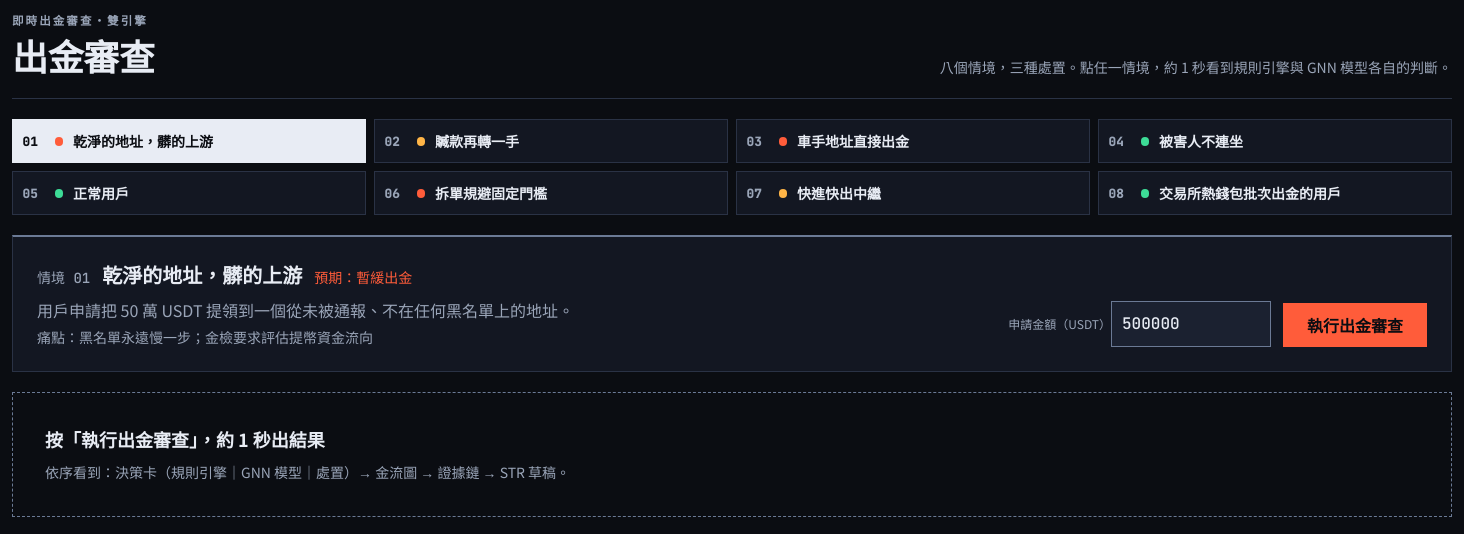
Scenario: Screening 離線快照保險網（I5） › 4xx（例如 API base 設錯導致的 404）不觸發快照，只顯示錯誤訊息
What coordinates should you click on to do the following:
click the button "執行出金審查"
I would click on:
 (1355, 325)
Its box is [1283, 303, 1427, 347].
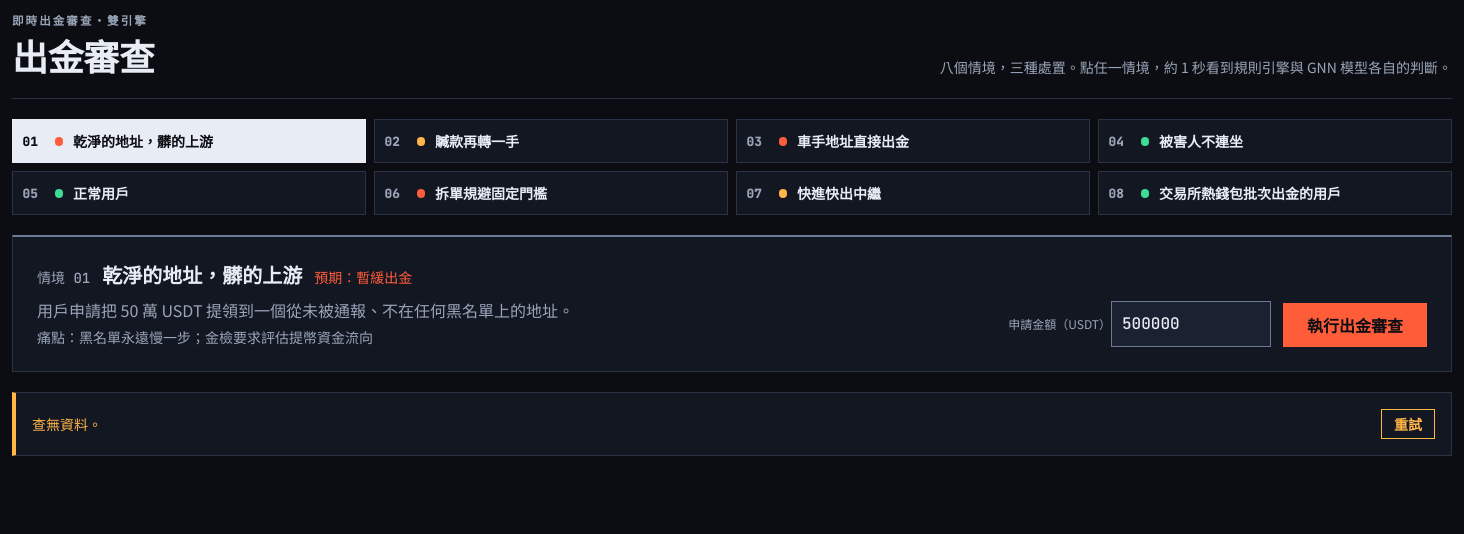
Result: the message "查無資料。 重試" is shown at [12, 392, 1452, 456]
